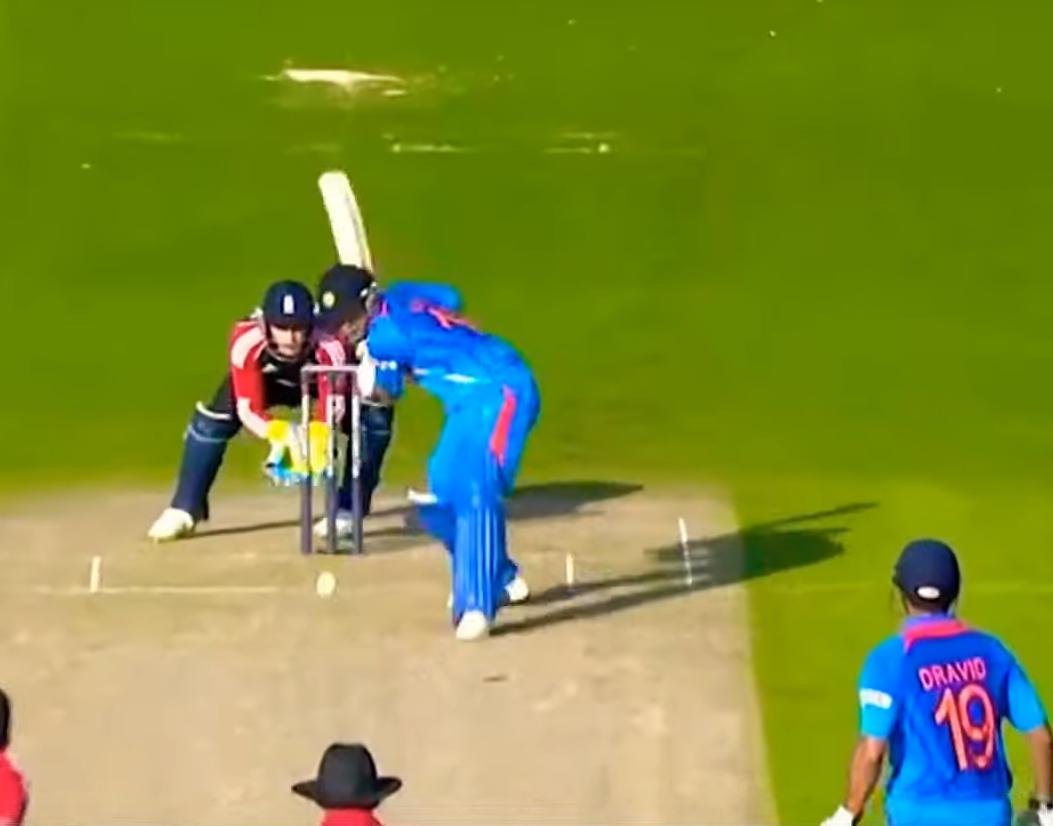Cricket-Ball: (311, 567, 343, 604)
